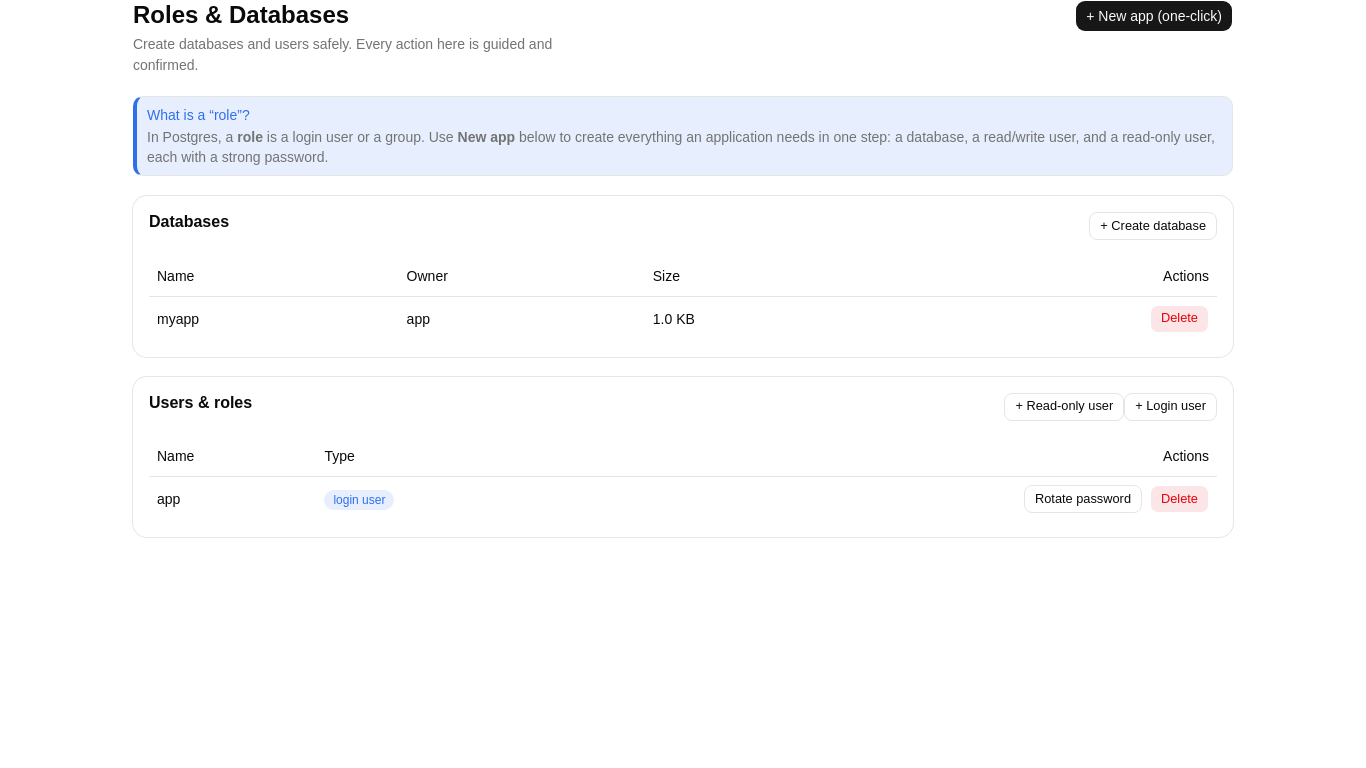
Test: RolesDatabases › requires typing the database name before the destructive drop confirms
Expected: the text "myapp" is shown, [149,296,399,340]
Click the button "Delete" in the row of "myapp" at (1180,318), box [1150,304,1209,332]
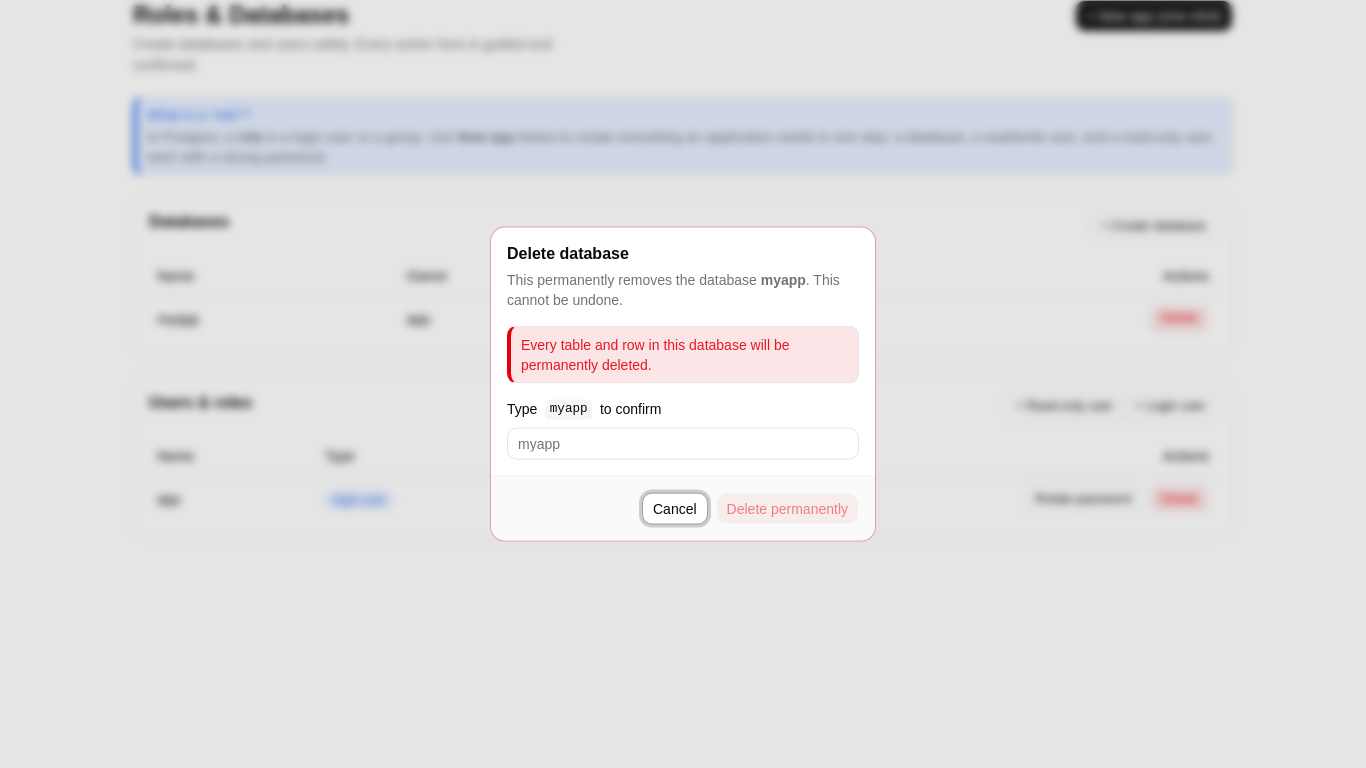
Expected: the heading "Delete database" is shown, [507,244,629,264]
Expected: the text "permanently deleted" is shown, [521,337,790,373]
Expected: the button "Delete permanently" is disabled, [716,492,859,524]
